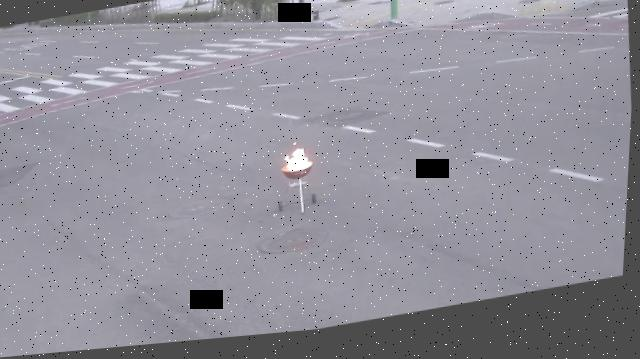fire: (284, 151, 315, 178)
